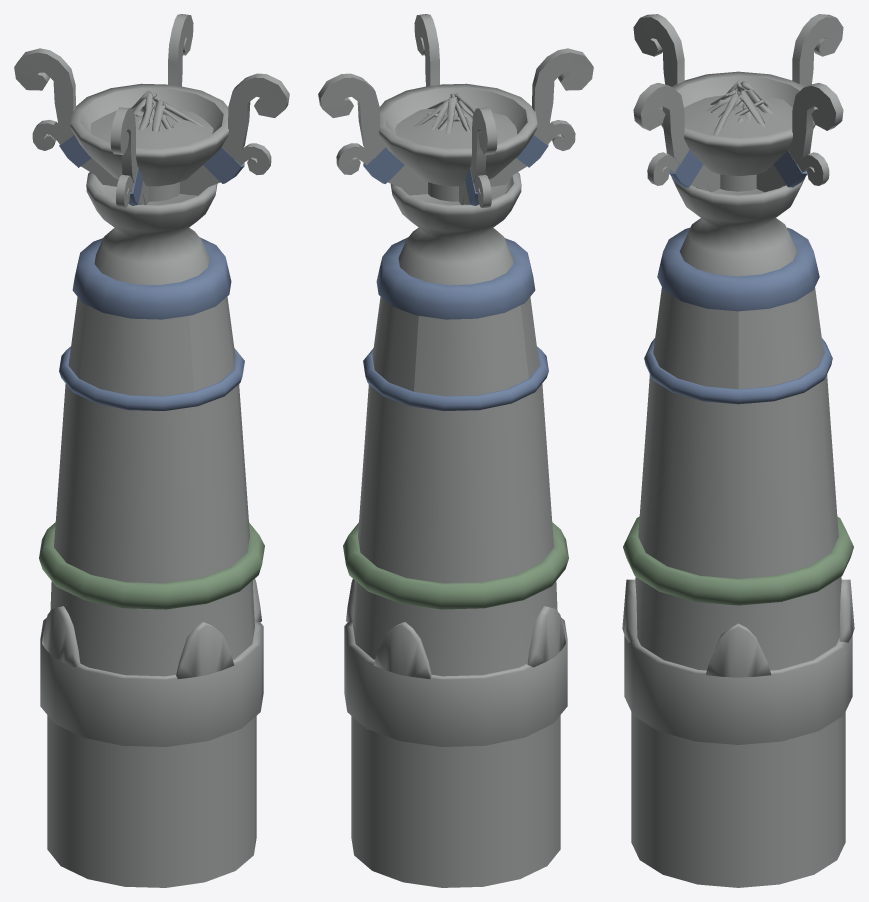
The picture shows the model from 3 angles, left to right: view 1: azimuth 30°, elevation 25°; view 2: azimuth 150°, elevation 25°; view 3: azimuth 270°, elevation 25°; orthographic projection.
Visible parts, largest first — view 1: G:\FFXIV-MapTools\exports\y6f2\bg\ex5\02_ykt_y6\fld\y6f2\bgp (×4); view 2: G:\FFXIV-MapTools\exports\y6f2\bg\ex5\02_ykt_y6\fld\y6f2\bgp (×4); view 3: G:\FFXIV-MapTools\exports\y6f2\bg\ex5\02_ykt_y6\fld\y6f2\bgp (×4).
Boxes of the visible parts, bbox=[...] form: G:\FFXIV-MapTools\exports\y6f2\bg\ex5\02_ykt_y6\fld\y6f2\bgp (×4): bbox=[14, 14, 289, 887]; G:\FFXIV-MapTools\exports\y6f2\bg\ex5\02_ykt_y6\fld\y6f2\bgp (×4): bbox=[318, 14, 593, 887]; G:\FFXIV-MapTools\exports\y6f2\bg\ex5\02_ykt_y6\fld\y6f2\bgp (×4): bbox=[622, 14, 854, 887].
Size of the model in its own units: 2.42 by 9.1 by 2.42.
